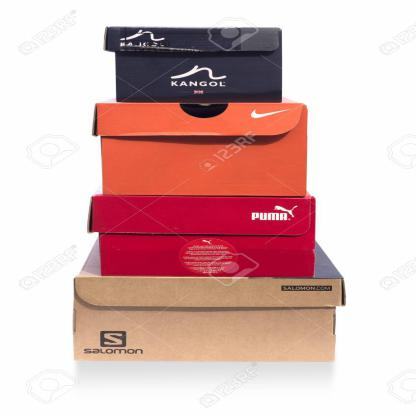box: (71, 276, 349, 365), (89, 100, 309, 198), (86, 196, 318, 277), (102, 25, 286, 103)
